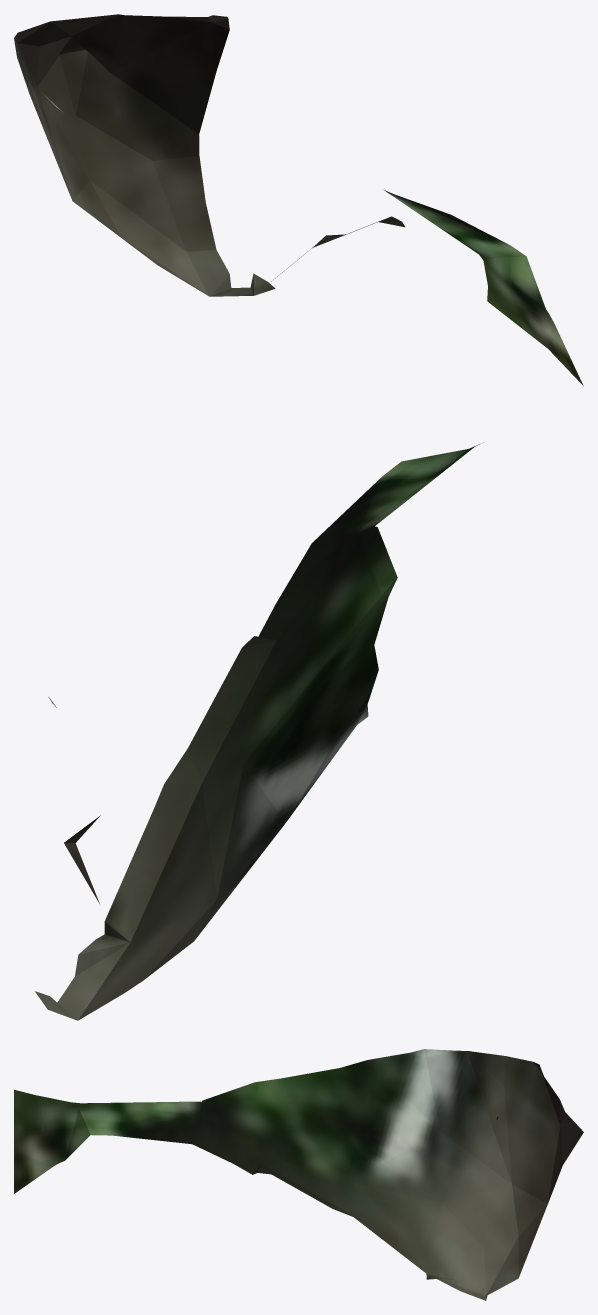
3 renders of one model, top to bottom at view 1: azimuth 30°, elevation 25°; view 2: azimuth 150°, elevation 25°; view 3: azimuth 270°, elevation 25°, orthographic. The views are drawn at different scales.
Size of the model in its own units: 0.2393 by 0.2813 by 0.7983.
1 material, 1 textured.
